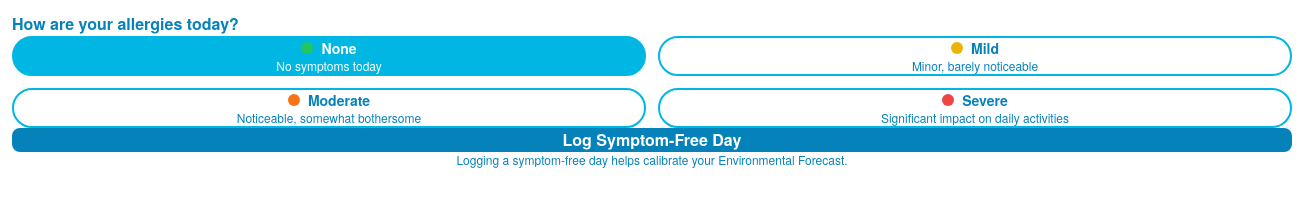
Test: CheckinForm › shows error on failed submission
Click the button with test id "checkin-submit".
click(652, 140)  # box [12,128,1292,152]
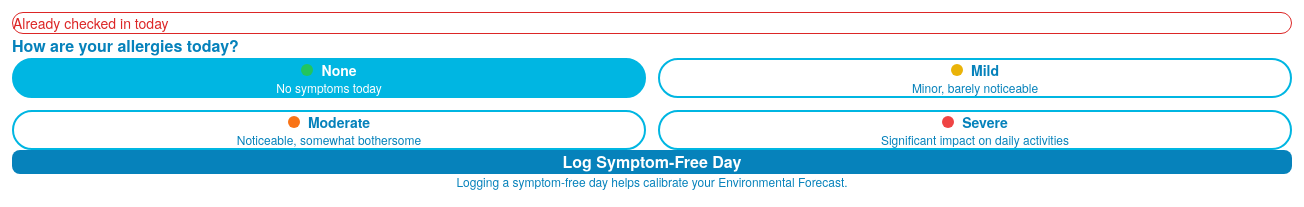
expect the message "Already checked in today" is shown: met, box [12,12,1292,34]
